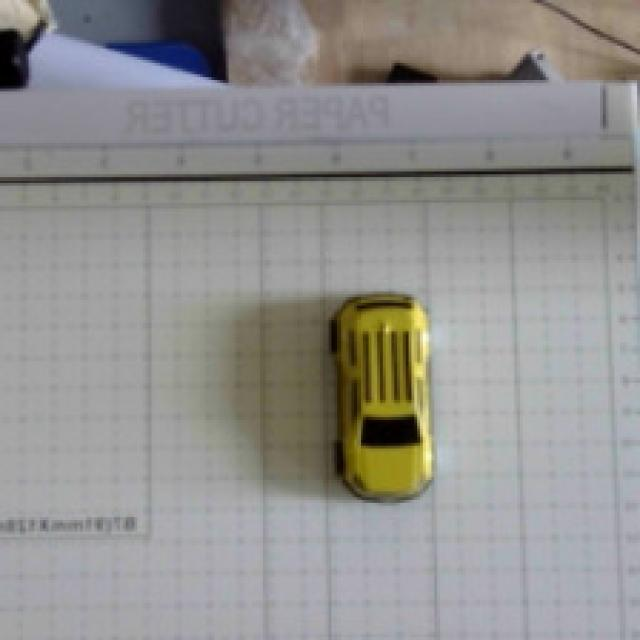Yellow Car: (264, 268, 470, 570)
